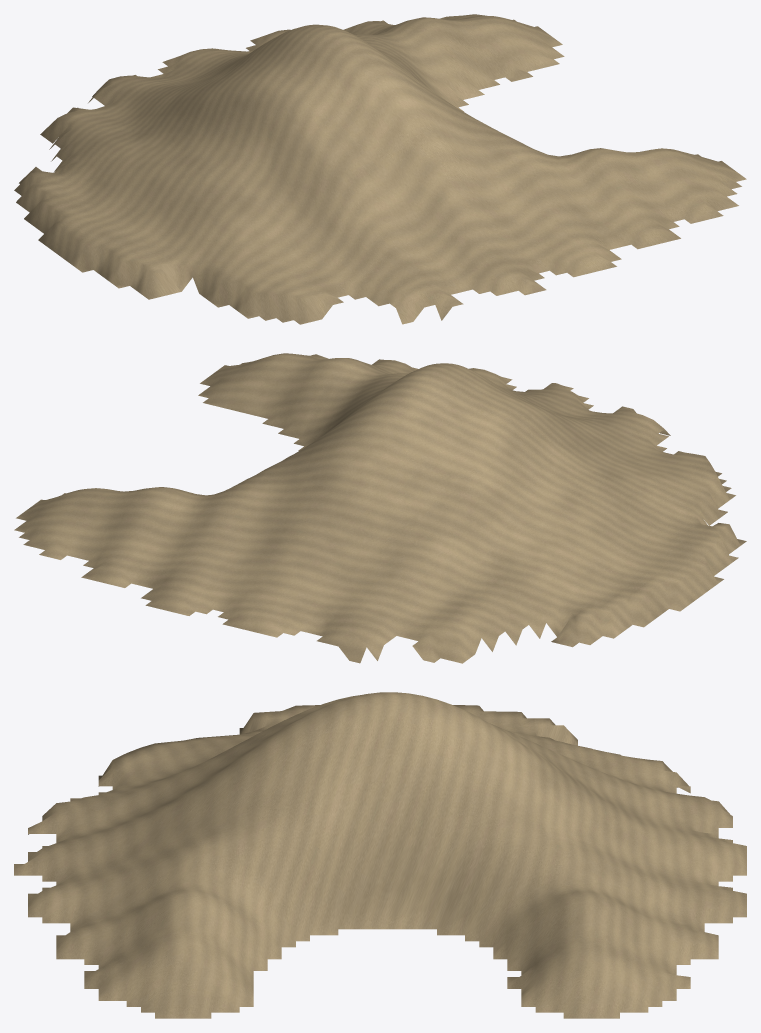
Rendered from border_dune_a_v5_autumn.glb.
The picture shows the model from 3 angles, top to bottom: view 1: azimuth 30°, elevation 25°; view 2: azimuth 150°, elevation 25°; view 3: azimuth 270°, elevation 25°; orthographic projection. The views are drawn at different scales.
Parts seen in each view (by area): view 1: border_dune_a; view 2: border_dune_a; view 3: border_dune_a.
Part boxes in pixels (x1,y1,x2,y2): border_dune_a: (14,14,746,324); border_dune_a: (14,353,746,663); border_dune_a: (14,692,746,1018).
Bounding box in the file's own units: 1.04 × 0.2602 × 1.02.
Materials: 1 (1 with a texture image).
